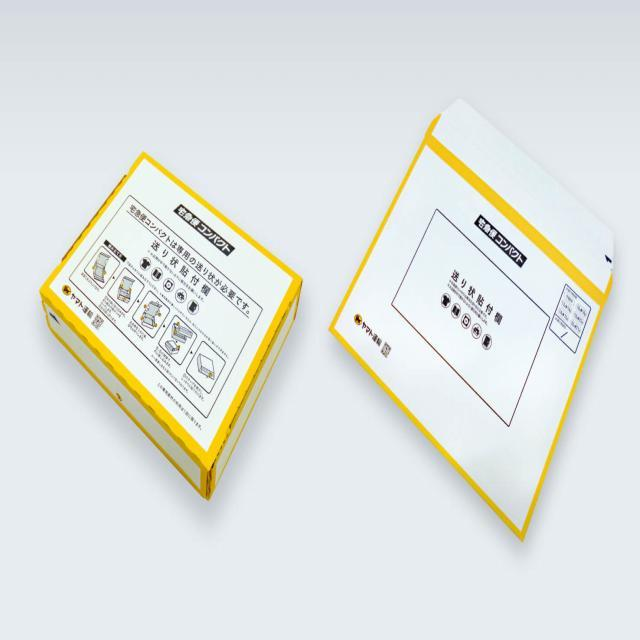-: (329, 101, 609, 553), (36, 143, 304, 513)
